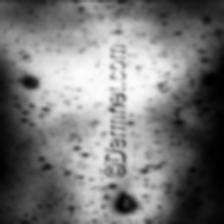Toxin: (40, 162, 54, 170), (172, 118, 184, 124), (113, 28, 124, 34)
